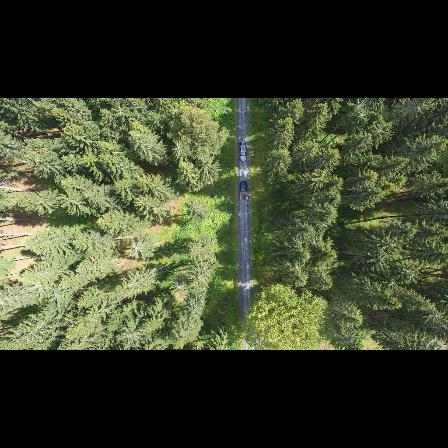Sick: (125, 236, 150, 261), (169, 135, 190, 161), (399, 261, 421, 283), (382, 273, 405, 292), (164, 102, 185, 119), (110, 102, 130, 119)
